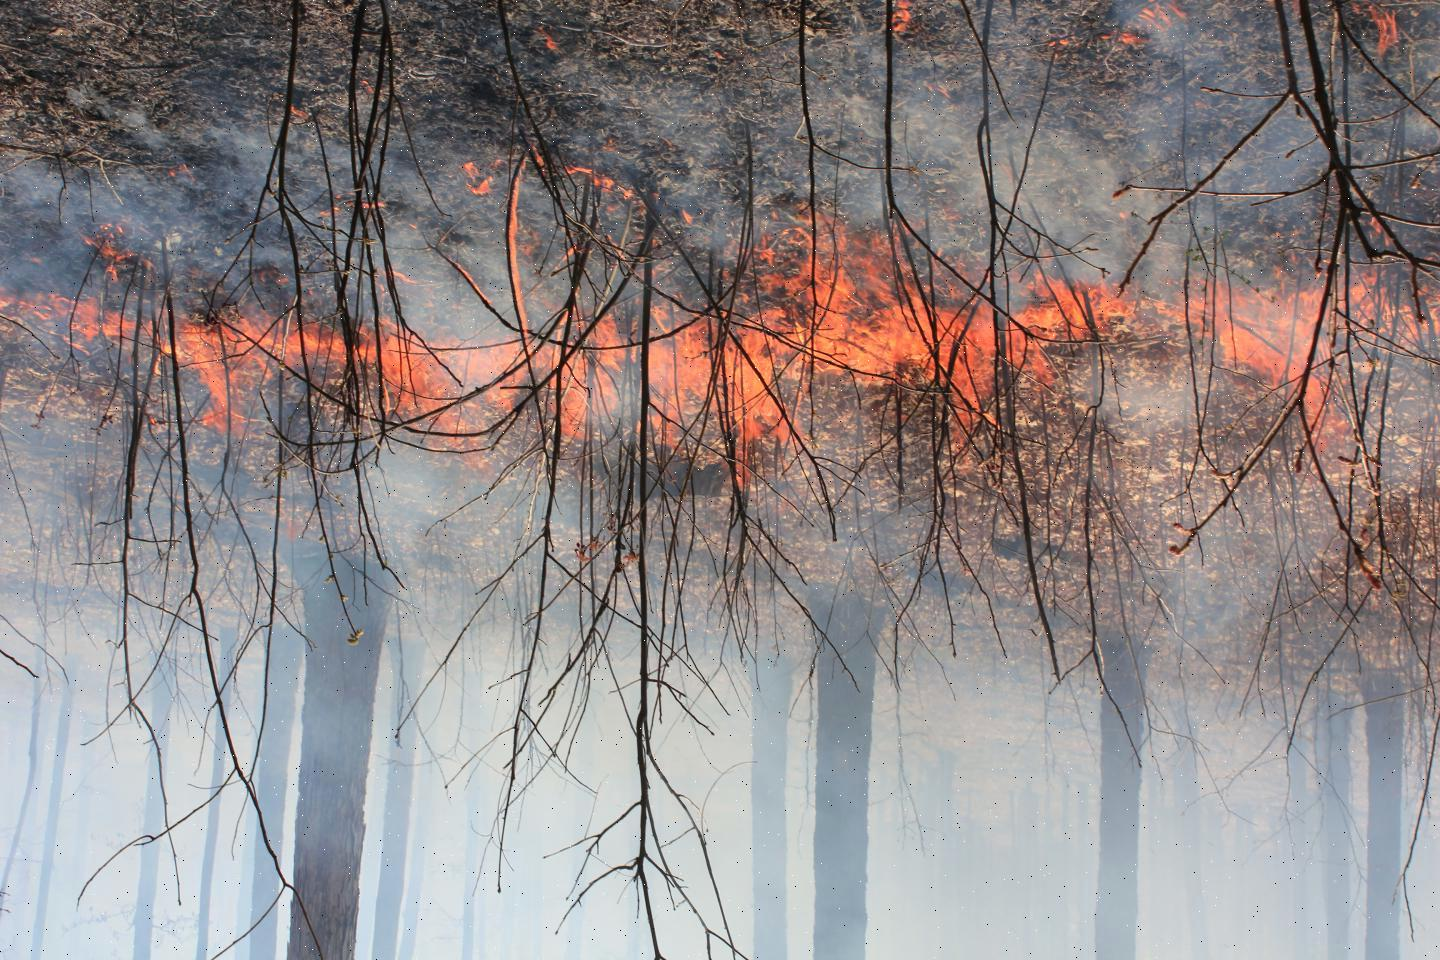fire: (78, 225, 1440, 620)
